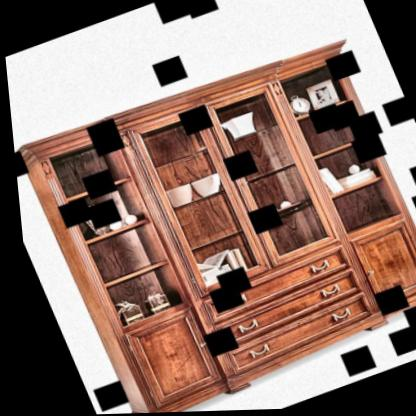Cupboard: (9, 32, 416, 416)
